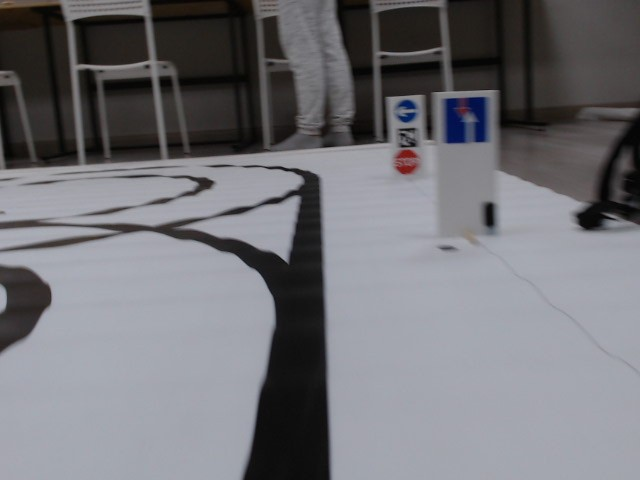Stop: (393, 149, 419, 173)
priority_movement: (443, 96, 490, 144)
